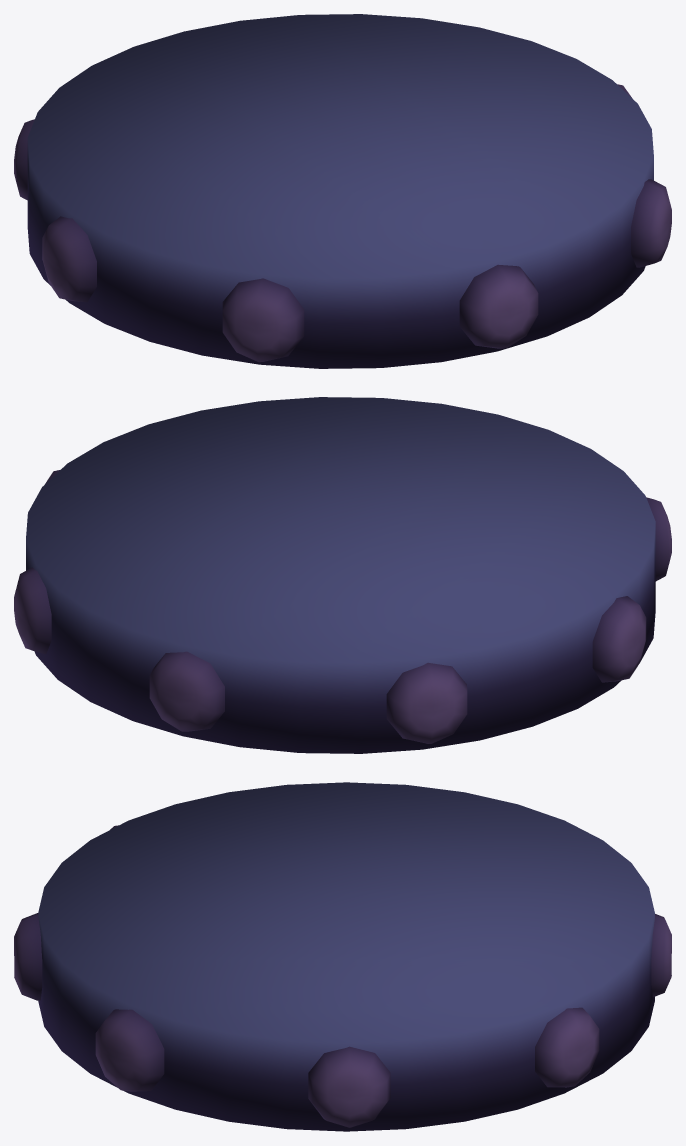
Rendered from Collar.fbx.
3 renders of one model, top to bottom at view 1: azimuth 30°, elevation 25°; view 2: azimuth 150°, elevation 25°; view 3: azimuth 270°, elevation 25°, orthographic. The views are drawn at different scales.
Visible parts, largest first — view 1: Collar; view 2: Collar; view 3: Collar.
Part boxes in pixels (x1,y1,x2,y2): Collar: (14,14,671,368); Collar: (14,397,671,753); Collar: (14,782,671,1131).
Size of the model in its own units: 192 by 28.55 by 192.
